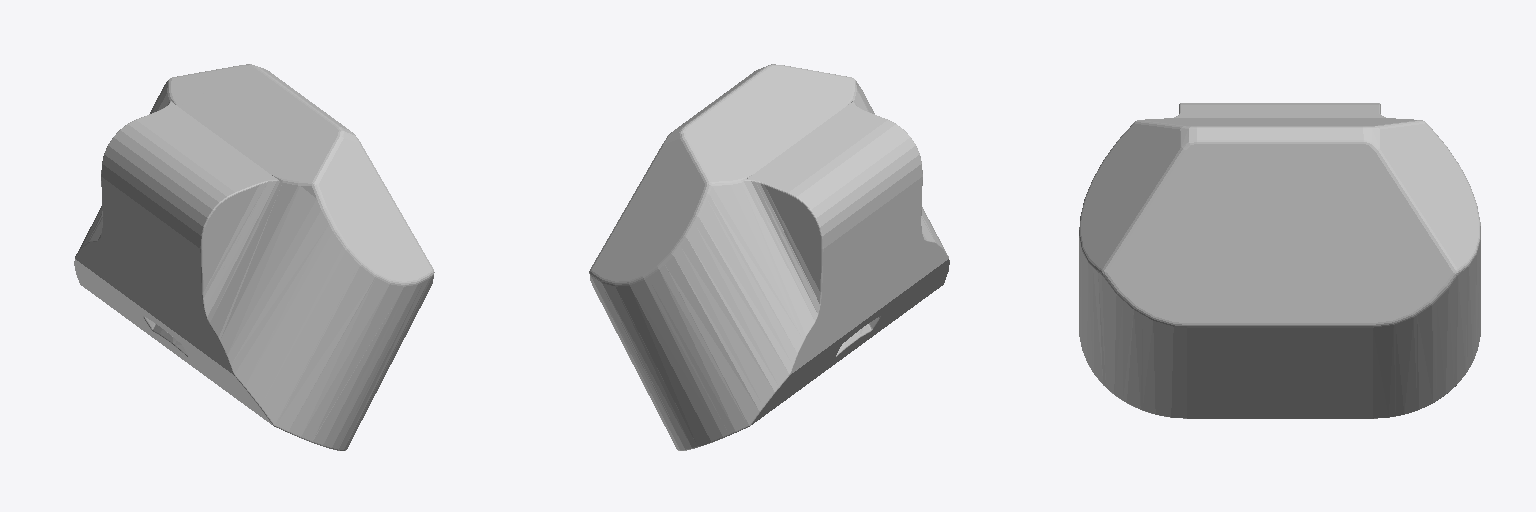
File: head_2.obj
3 views of the same model, side by side, from view 1: azimuth 30°, elevation 25°; view 2: azimuth 150°, elevation 25°; view 3: azimuth 270°, elevation 25° (orthographic).
Parts seen in each view (by area): view 1: head_2; view 2: head_2; view 3: head_2.
Part boxes in pixels (bbox=[...]): head_2: bbox=[74, 64, 434, 450]; head_2: bbox=[589, 64, 949, 450]; head_2: bbox=[1079, 103, 1480, 418].
Bounding box in the file's own units: 0.1569 × 0.2128 × 0.2598.